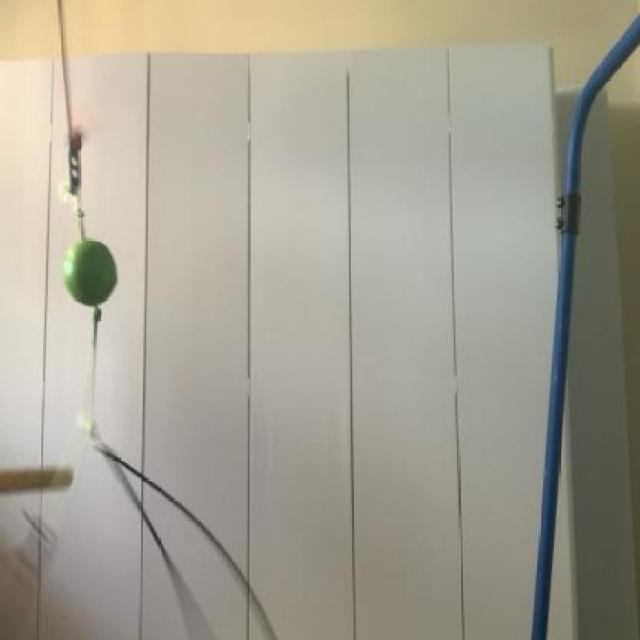baseball: (62, 234, 129, 315)
